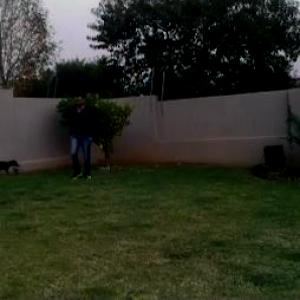follow: (69, 85, 98, 184)
